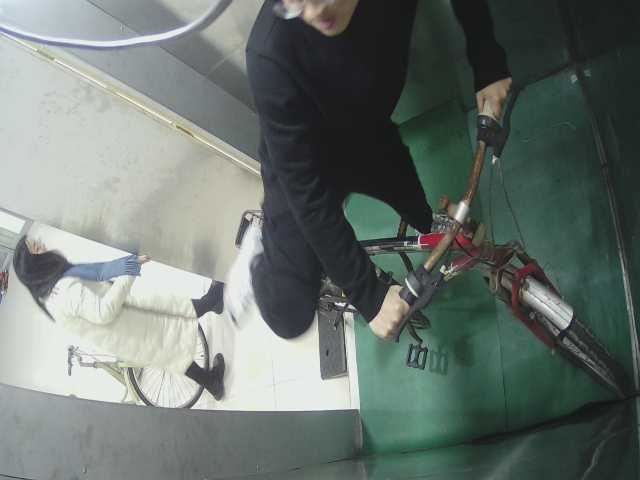bicycle: (349, 85, 636, 405), (64, 321, 222, 421)
person: (233, 1, 449, 354), (11, 229, 257, 400)
